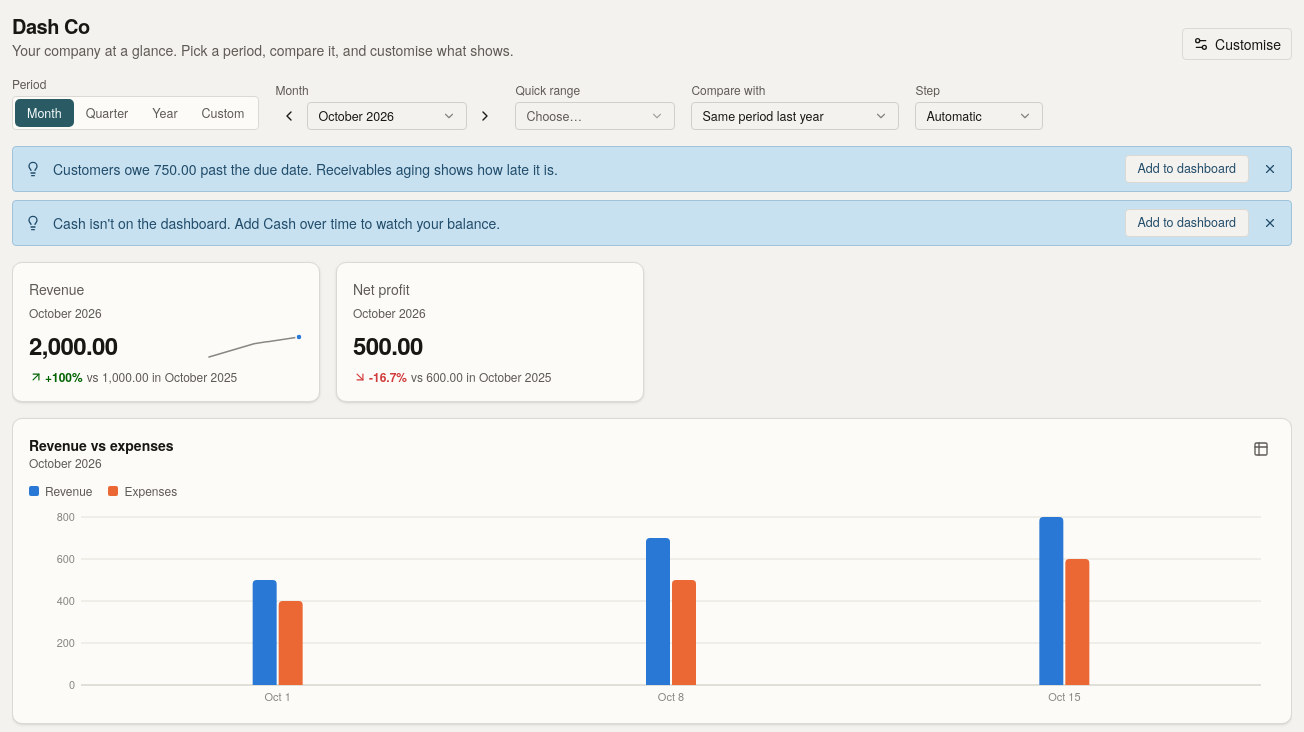
Test: Dashboard › every chart has a table view
Click the button named "Show as table". click: (1261, 449)
box: x1=1247 y1=435 x2=1275 y2=463
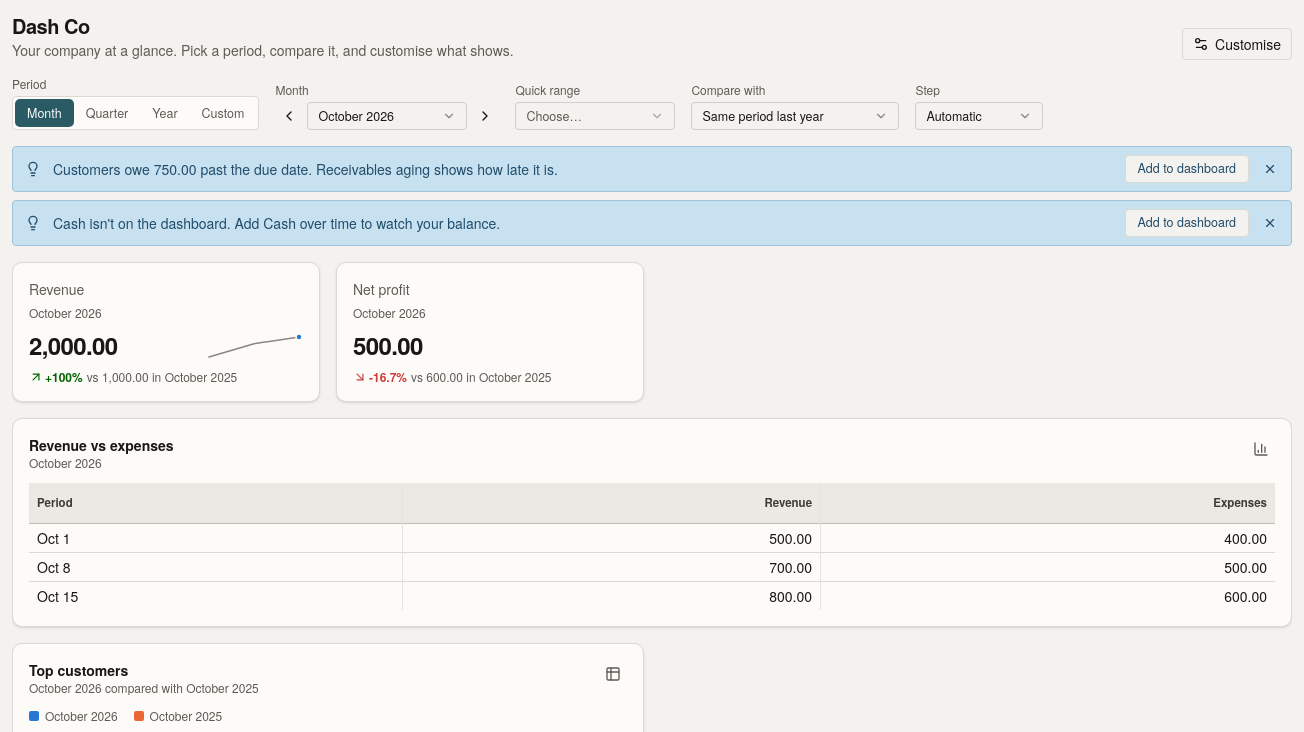
Check: the text "700.00" is shown, box x1=403 y1=552 x2=820 y2=581
Check: the text "500.00" in the row of "Oct 8" is shown, box x1=1224 y1=556 x2=1267 y2=576
